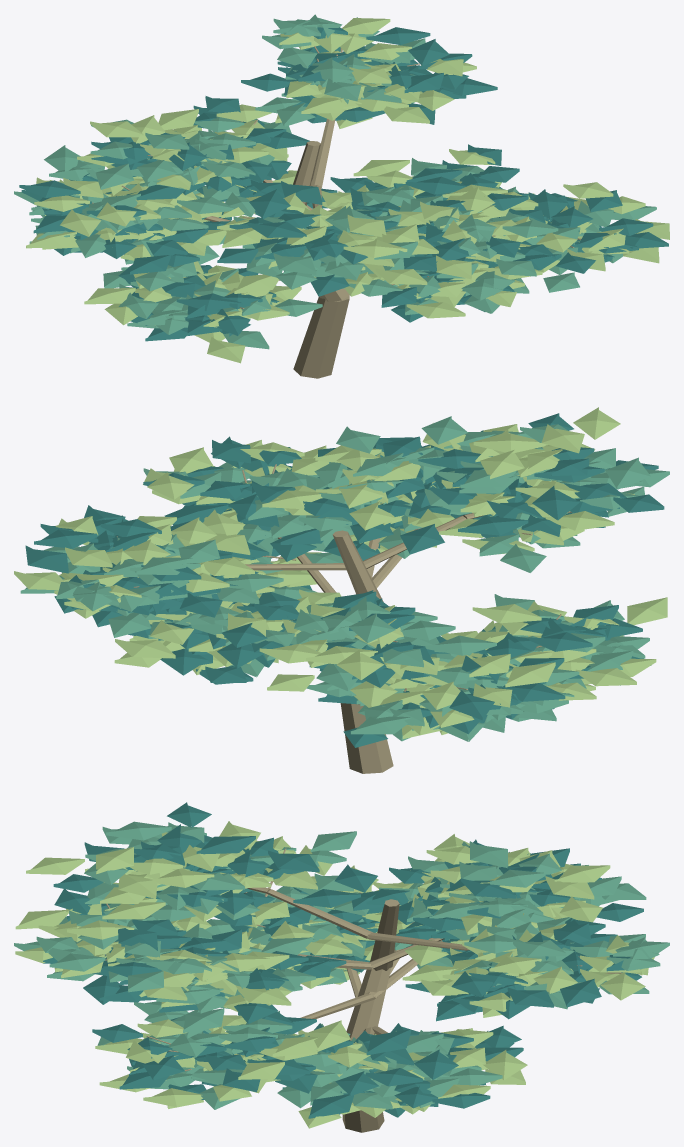
The model's file is shrub.glb.
The picture shows the model from 3 angles, top to bottom: view 1: azimuth 30°, elevation 25°; view 2: azimuth 150°, elevation 25°; view 3: azimuth 270°, elevation 25°; orthographic projection. The views are drawn at different scales.
Parts seen in each view (by area): view 1: Sunwen_shrub; view 2: Sunwen_shrub; view 3: Sunwen_shrub.
Boxes of the visible parts, box(x1,y1,x2,y2) form: Sunwen_shrub: box(14, 14, 669, 378); Sunwen_shrub: box(14, 407, 669, 773); Sunwen_shrub: box(14, 802, 669, 1132).
Bounding box in the file's own units: 4.94 × 2.04 × 5.1.
